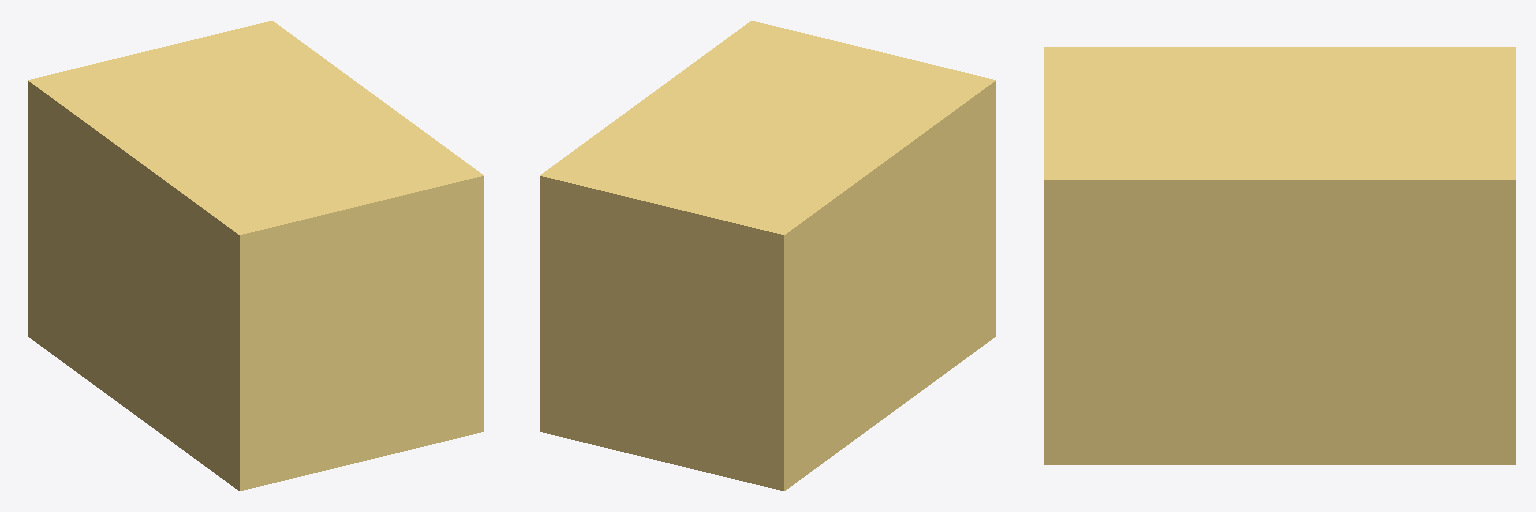
The robot description file, URDF, robot "butter":
<robot name="butter">
  <link name="butter">
    <contact>
      <lateral_friction value="1.0"/>
      <rolling_friction value="0.0001"/>
      <inertia_scaling value="3.0"/>
    </contact>
    <collision>
      <origin xyz="0.0 0.0 0.015" />
      <geometry>
        <box size="0.03 0.05 0.03" />
      </geometry>
    </collision>
    <visual>
      <origin xyz="0.0 0.0 0.015" />
      <material name="light yellow">
        <color rgba="1. 0.9 0.6 1.0" />
      </material>
      <geometry>
        <box size="0.04 0.06 0.04" />
      </geometry>
    </visual>
  </link>
</robot>

--- Render facts (derived) ---
The picture shows the robot from 3 angles, left to right: view 1: azimuth 30°, elevation 25°; view 2: azimuth 150°, elevation 25°; view 3: azimuth 270°, elevation 25°; orthographic projection.
Model butter with 1 links and 0 joints (none), rooted at butter, posed all joints at 0.
Links seen in each view (by area): view 1: butter; view 2: butter; view 3: butter.
Boxes of the visible links, x1,y1,x2,y2 form: butter: [28, 21, 483, 490]; butter: [540, 21, 995, 490]; butter: [1044, 47, 1515, 464].
Size in the robot's own frame: 0.04 by 0.06 by 0.04 metres.
Geometry: primitives only (box / cylinder / sphere), no mesh files.